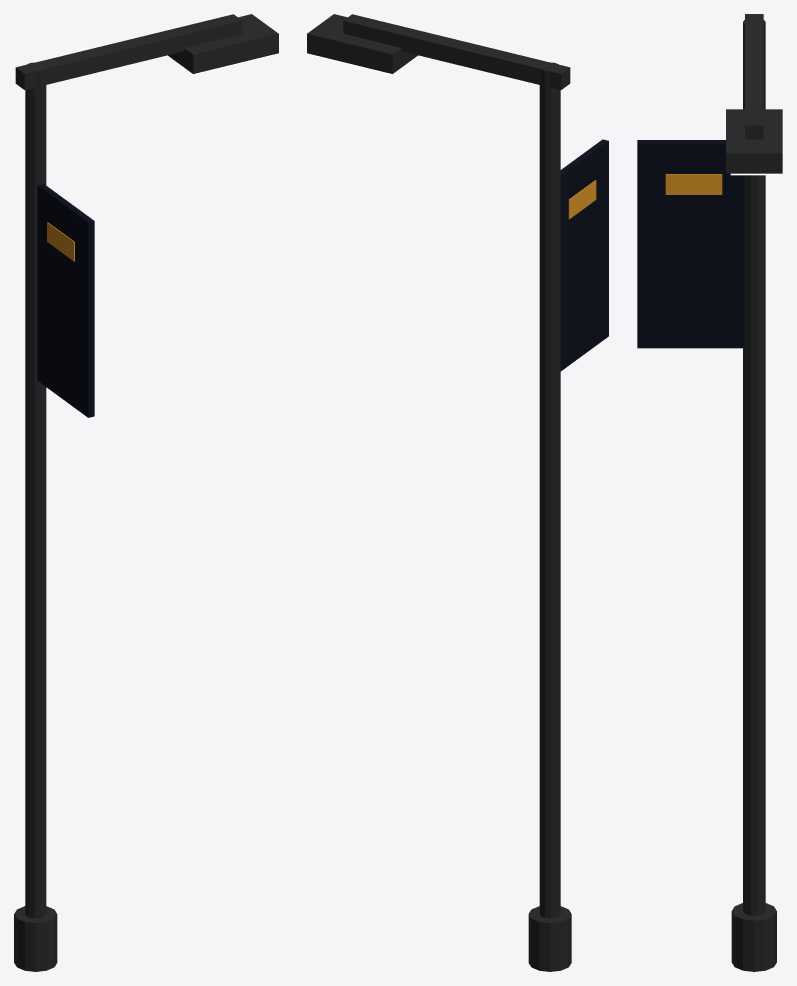
File: PROP_REAL_StreetLight.glb
3 views of the same model, side by side, from view 1: azimuth 30°, elevation 25°; view 2: azimuth 150°, elevation 25°; view 3: azimuth 270°, elevation 25° (orthographic). The views are drawn at different scales.
Parts seen in each view (by area): view 1: PROP_REAL_StreetLight; view 2: PROP_REAL_StreetLight; view 3: PROP_REAL_StreetLight.
Boxes of the visible parts, x1,y1,x2,y2 form: PROP_REAL_StreetLight: (14, 14, 278, 971); PROP_REAL_StreetLight: (307, 14, 608, 971); PROP_REAL_StreetLight: (637, 14, 782, 971).
Bounding box in the file's own units: 1.6 × 5.5 × 0.77.
